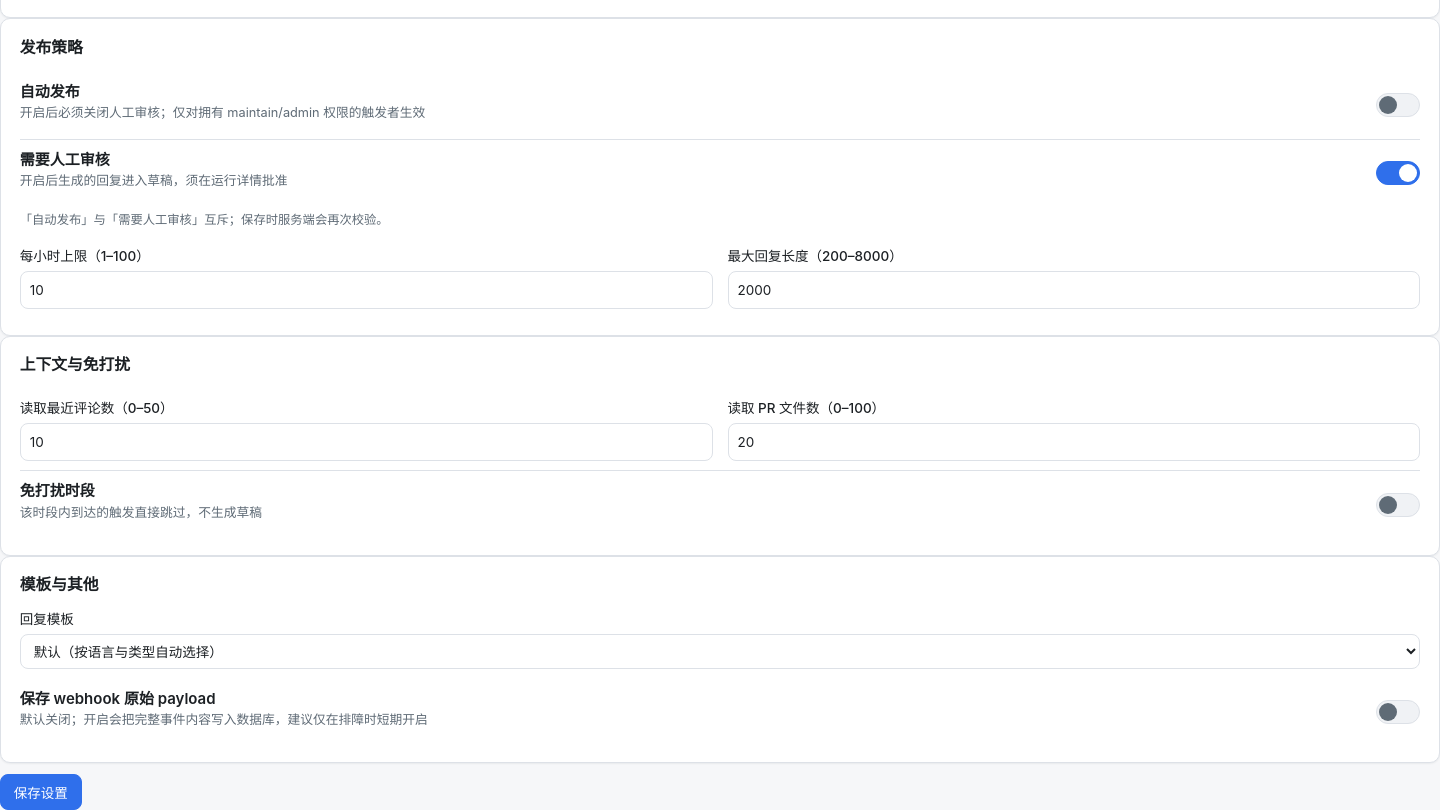
it: repository settings page › shows a server validation error without pretending success
(page scrolled)
Click the button "保存设置" at (41,792), box [0,774,82,809]
(page scrolled)
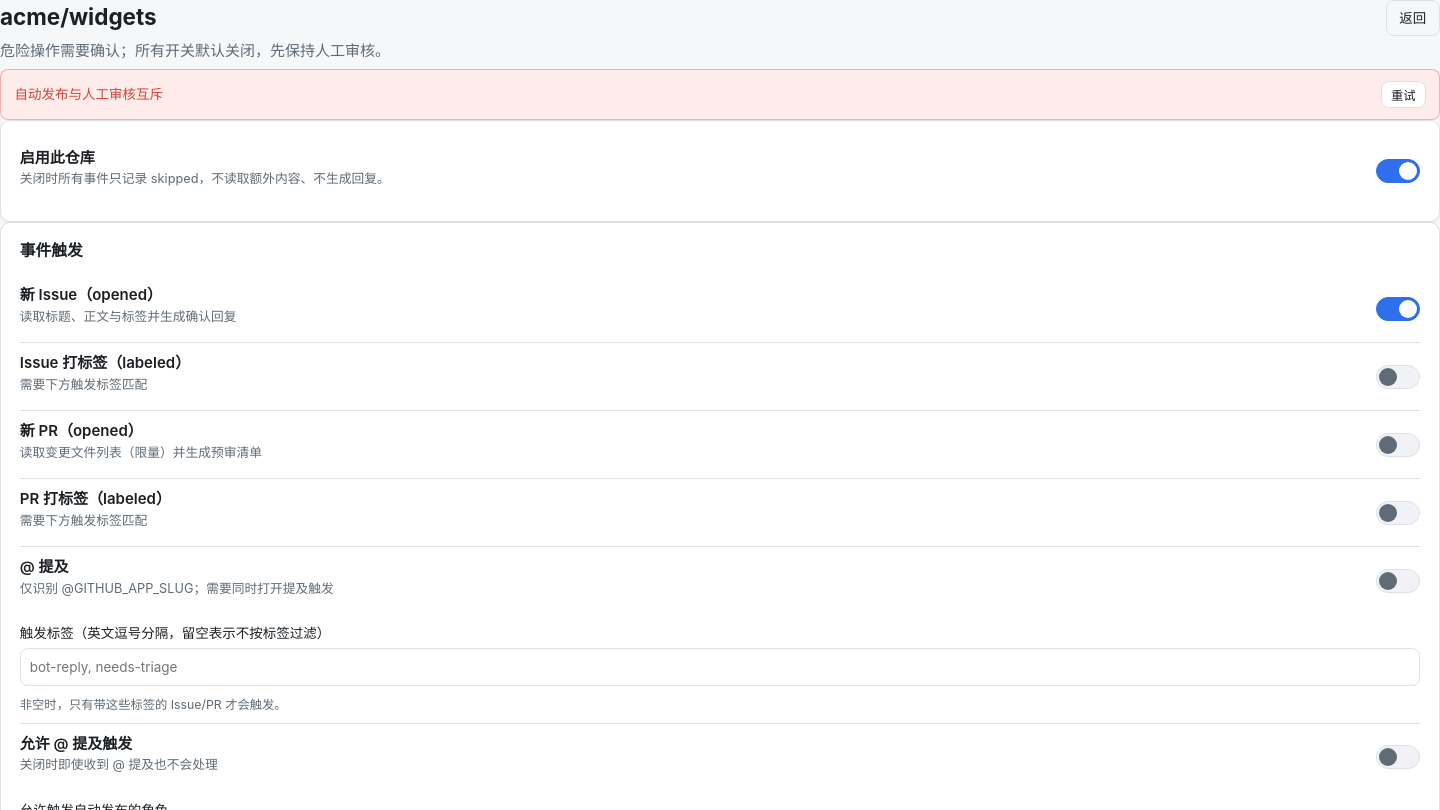
Expected: the message shows "自动发布与人工审核互斥", [14,86,163,102]
